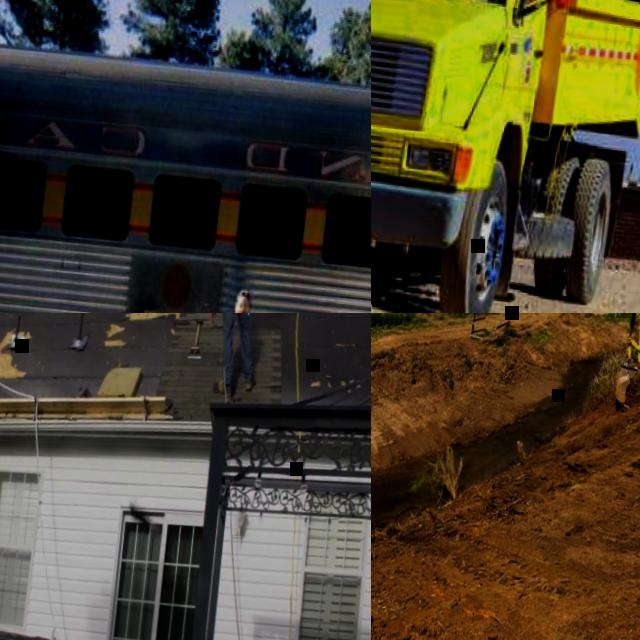NO-Hardhat: (235, 287, 251, 300)
NO-Mask: (236, 310, 247, 313)
Person: (200, 313, 276, 403)
machinery: (371, 0, 640, 313)
